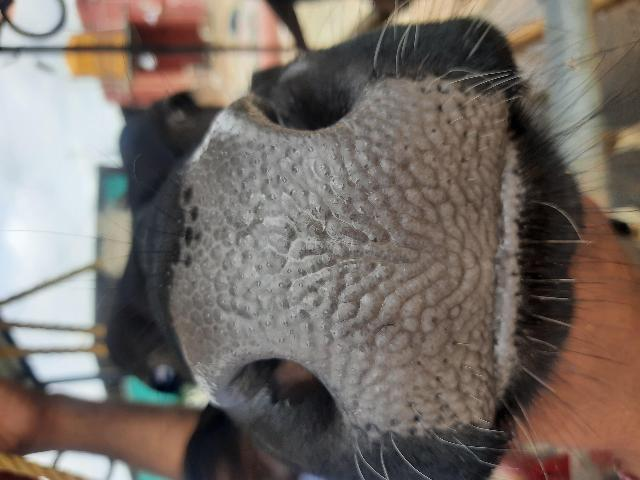Muzzle: (200, 136, 492, 360)
